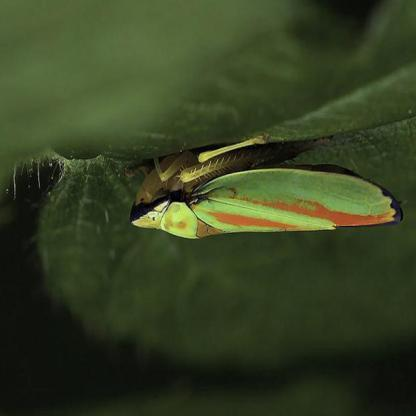green-leafhopper: (122, 160, 402, 240)
